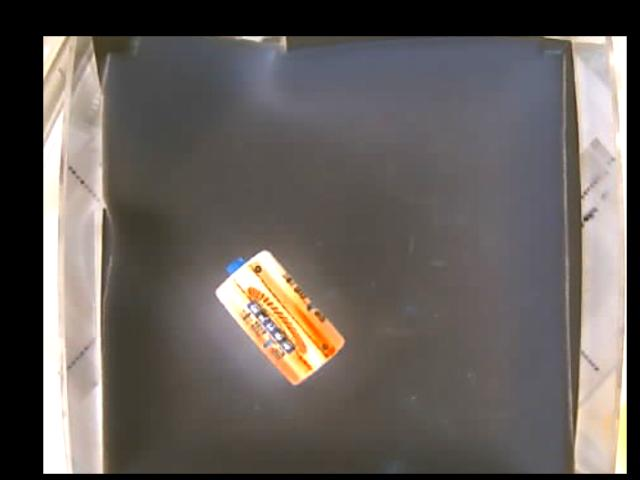Battery: (213, 246, 346, 387)
